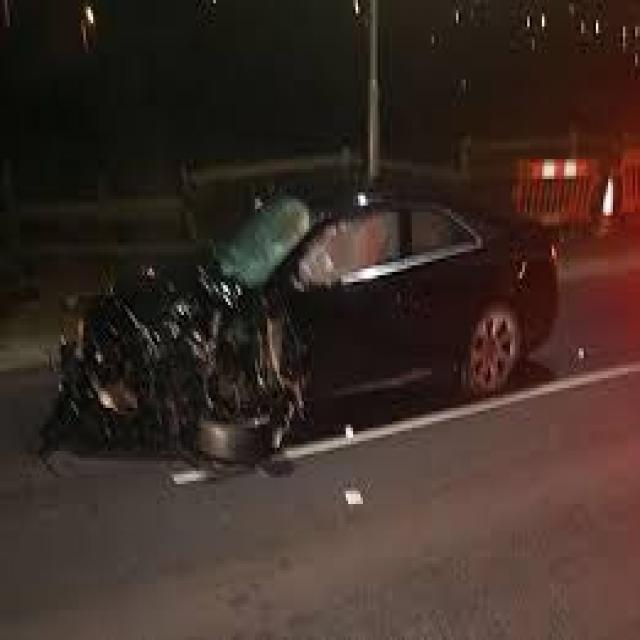accident: (62, 130, 583, 500)
